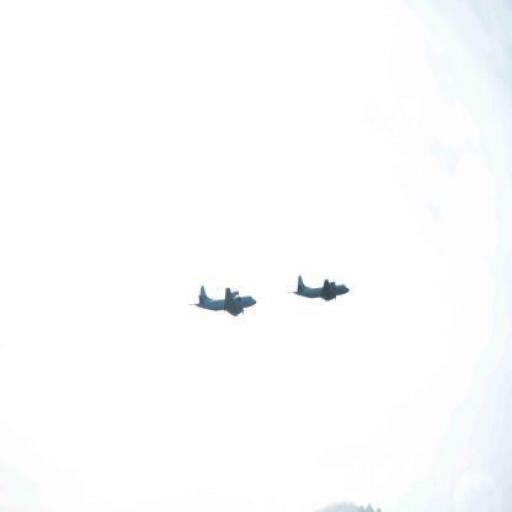aircraft: (188, 286, 256, 318), (288, 275, 351, 302)
